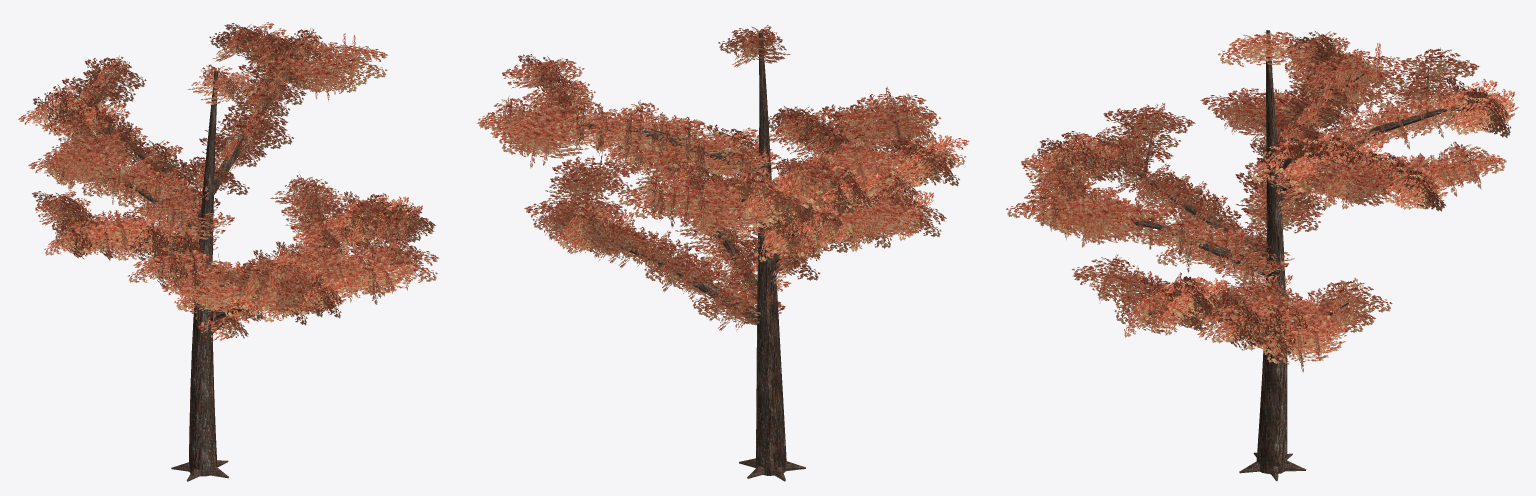
File: tree_3d_04_copper_lod0.glb
The picture shows the model from 3 angles, left to right: view 1: azimuth 30°, elevation 25°; view 2: azimuth 150°, elevation 25°; view 3: azimuth 270°, elevation 25°; orthographic projection. The views are drawn at different scales.
Visible parts, largest first — view 1: foliage_cards, wood_geometry; view 2: foliage_cards, wood_geometry; view 3: foliage_cards, wood_geometry.
Boxes of the visible parts, bbox=[...] form: foliage_cards: bbox=[18, 22, 439, 341]; wood_geometry: bbox=[61, 37, 403, 481]; foliage_cards: bbox=[477, 25, 969, 330]; wood_geometry: bbox=[534, 33, 927, 481]; foliage_cards: bbox=[1006, 31, 1518, 372]; wood_geometry: bbox=[1051, 30, 1492, 480].
Size of the model in its own units: 8.14 by 8.31 by 8.74.
2 materials, 2 textured.
